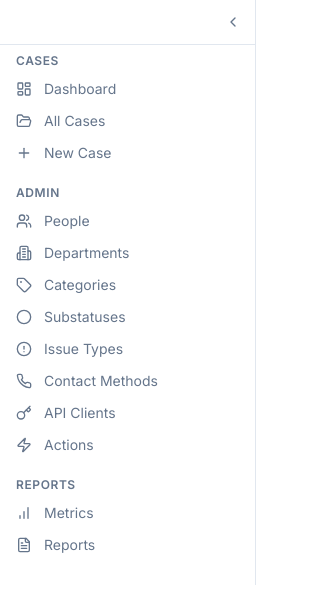
Scenario: Sidebar — role-based nav filtering › sidebar collapse toggle changes aria-label
Step 1. Click the button named "collapse sidebar" → (233, 22), box [219, 8, 247, 36]
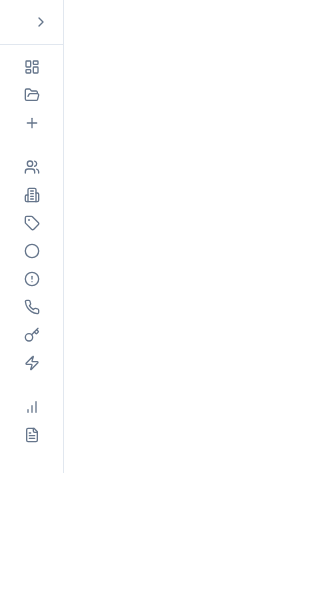
Expected: the button named "expand sidebar" is shown, [27, 8, 55, 36]
